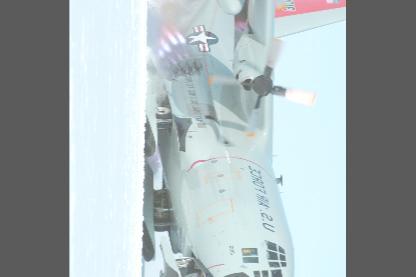Be200: (141, 0, 346, 276)
